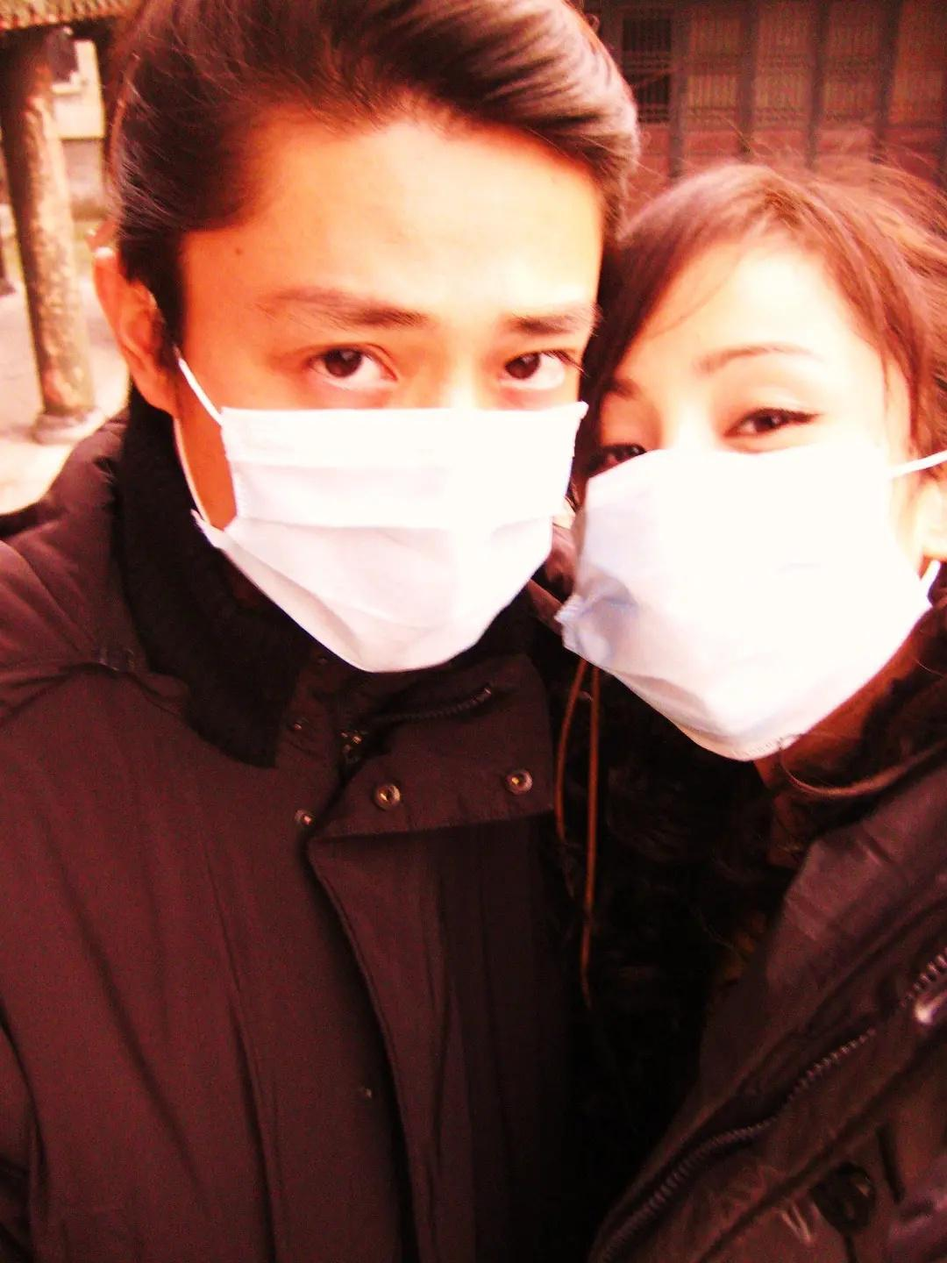OK: (218, 206, 595, 671), (570, 313, 907, 750)
